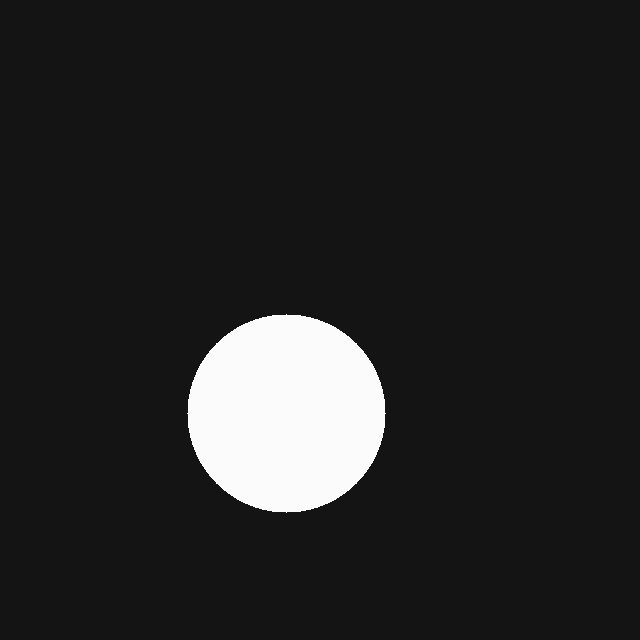circle: (187, 314, 385, 512)
